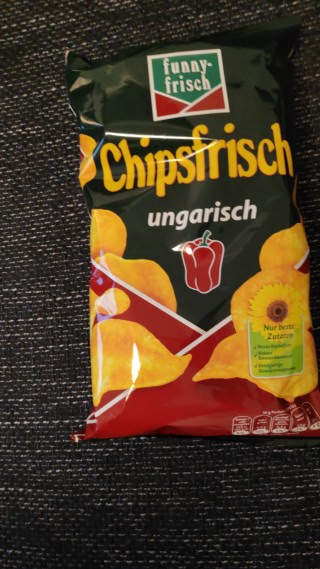chipsfrisch: (61, 12, 320, 449)
